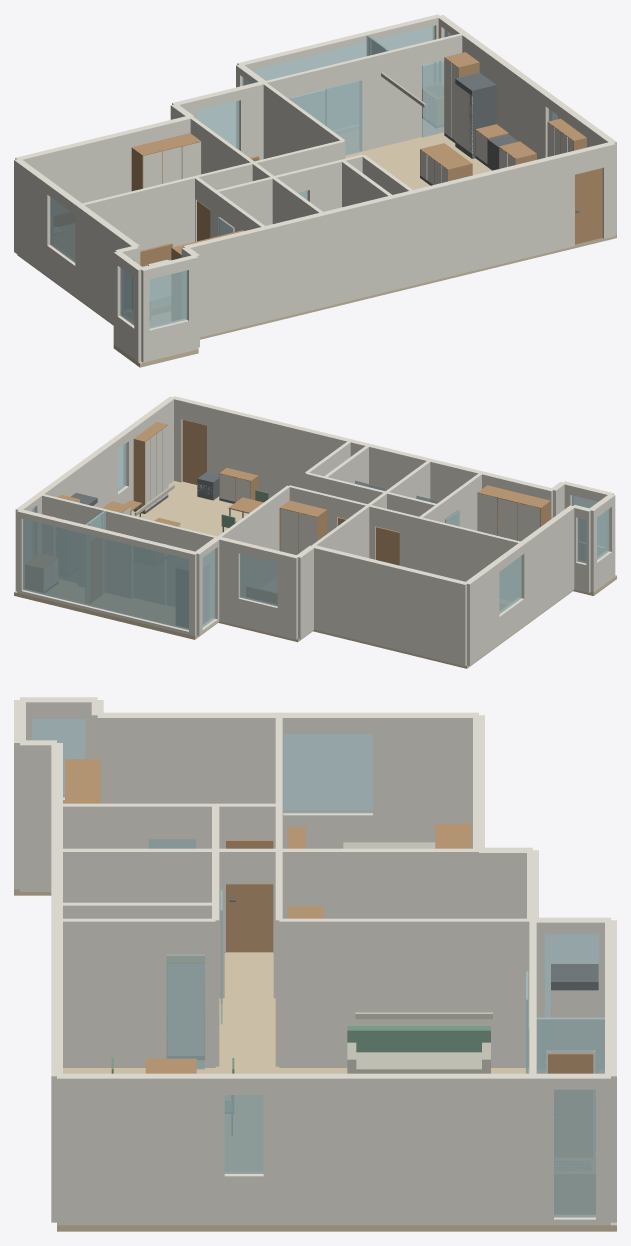
The model's file is 157furnish_R2_electric.glb.
3 views of the same model, one above another, from view 1: azimuth 30°, elevation 25°; view 2: azimuth 150°, elevation 25°; view 3: azimuth 270°, elevation 25° (orthographic). The views are drawn at different scales.
Visible parts, largest first — view 1: south_main_0, north_A_end, A_south_0, balcony_s_1, east_1, west_AB_0, west_AB_end, C_east_end, floor_0, balcony_glass, living_balcony_fixed_panel, north_balcony_0_lintel (+48 smaller); view 2: north_A_end, balcony_glass, south_main_0, A_south_0, west_AB_0, floor_0, east_1, C_east_end, west_AB_end, balcony_s_1, floor_2, north_C_end (+59 smaller); view 3: east_1, C_east_end, east_0, west_AB_0, store_e_0, A_C_end, floor_0, west_AB_end, bath_AB_end, A_window, balcony_e_window, B_step_e_end (+45 smaller).
Part boxes in pixels (x1,y1,x2,y2): south_main_0: (183,151,573,337); north_A_end: (15,115,192,214); A_south_0: (79,171,217,250); balcony_s_1: (361,43,420,151); east_1: (454,28,551,159); west_AB_0: (75,203,140,324); west_AB_end: (14,158,53,275); C_east_end: (262,82,345,158); floor_0: (17,144,616,339); balcony_glass: (252,25,434,98); living_balcony_fixed_panel: (325,80,362,155); north_balcony_0_lintel: (244,15,436,70); north_A_end: (313,545,468,666); balcony_glass: (23,519,188,630); south_main_0: (208,405,554,524); A_south_0: (400,512,521,600); west_AB_0: (519,505,574,625); floor_0: (131,481,572,668); east_1: (32,438,117,555); C_east_end: (217,485,289,596); west_AB_end: (466,561,499,665); balcony_s_1: (78,503,132,597); floor_2: (14,581,218,639); north_C_end: (217,537,241,625); east_1: (263,1073,553,1225); C_east_end: (279,918,532,1067); east_0: (57,1073,224,1225); west_AB_0: (97,712,283,848); store_e_0: (58,918,164,1067); A_C_end: (275,848,478,918); floor_0: (57,952,478,1231); west_AB_end: (373,712,478,848); bath_AB_end: (57,848,215,902); A_window: (283,734,372,813); balcony_e_window: (554,1089,595,1217); B_step_e_end: (20,740,56,891).
Bounding box in the file's own units: 15.08 × 2.82 × 10.07.
